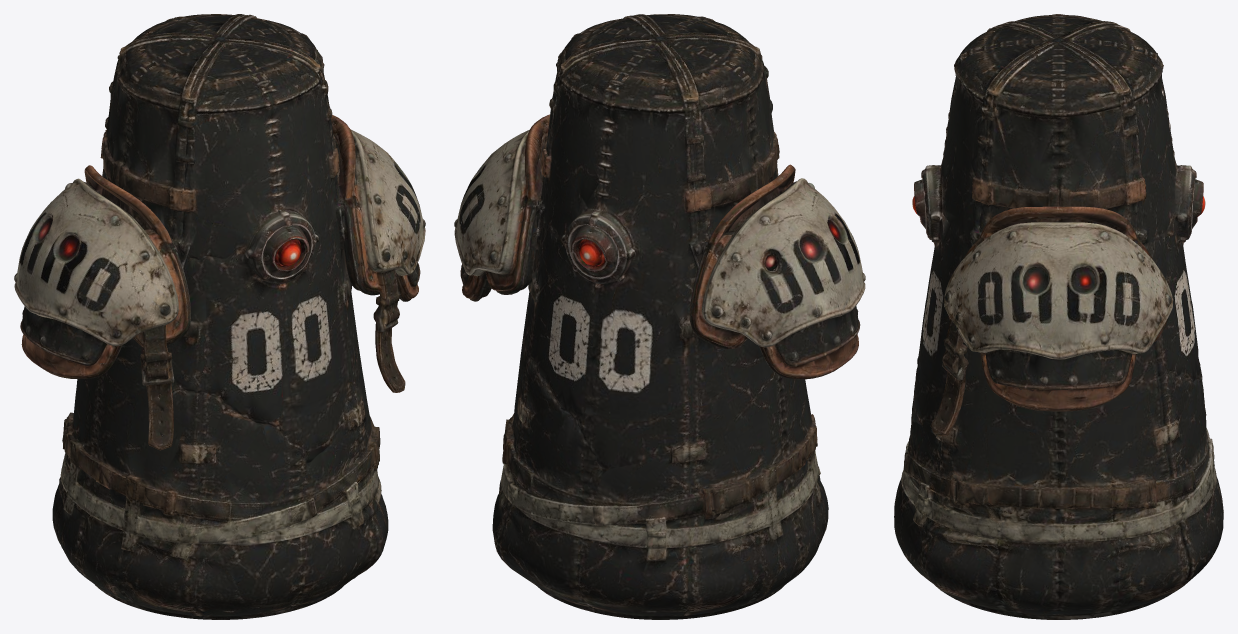
The model's file is tackle_brute.glb.
3 renders of one model, left to right at view 1: azimuth 30°, elevation 25°; view 2: azimuth 150°, elevation 25°; view 3: azimuth 270°, elevation 25°, orthographic.
Size of the model in its own units: 1.45 by 1.9 by 1.08.
1 material, 1 textured.
